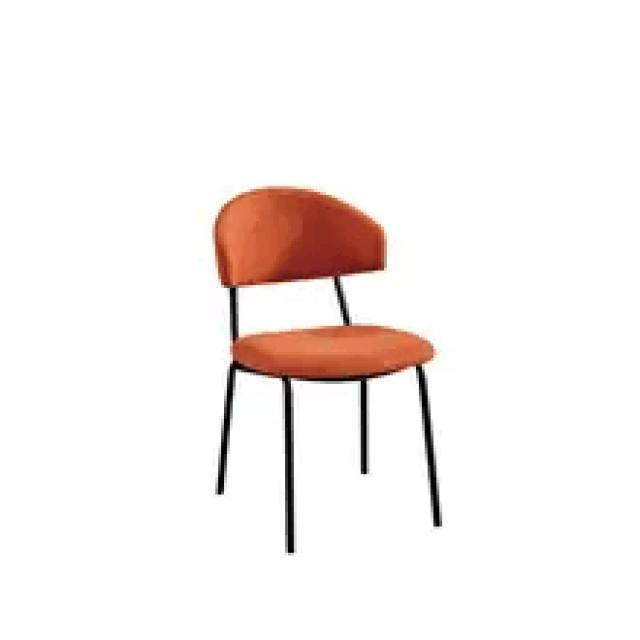chair: (210, 177, 450, 554), (210, 184, 436, 390)
